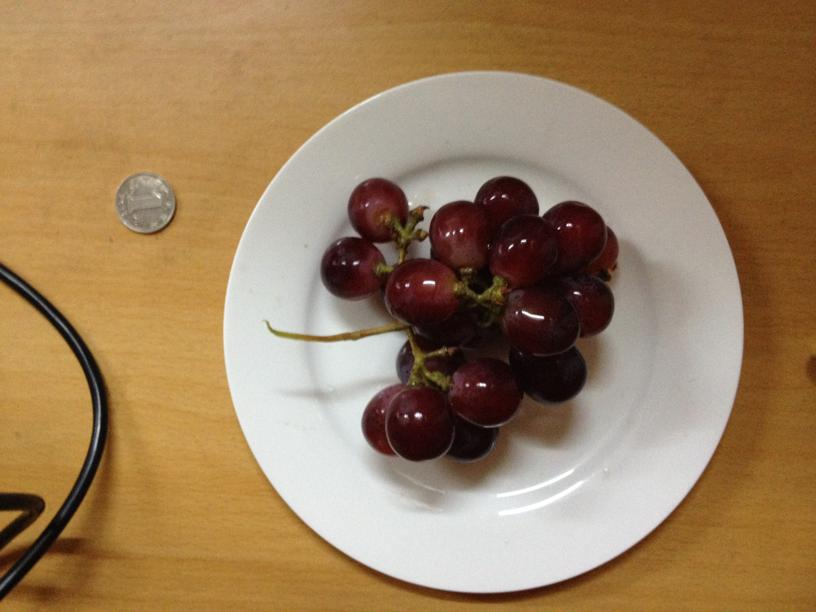coin: (114, 171, 177, 234)
grape: (314, 165, 615, 463)
